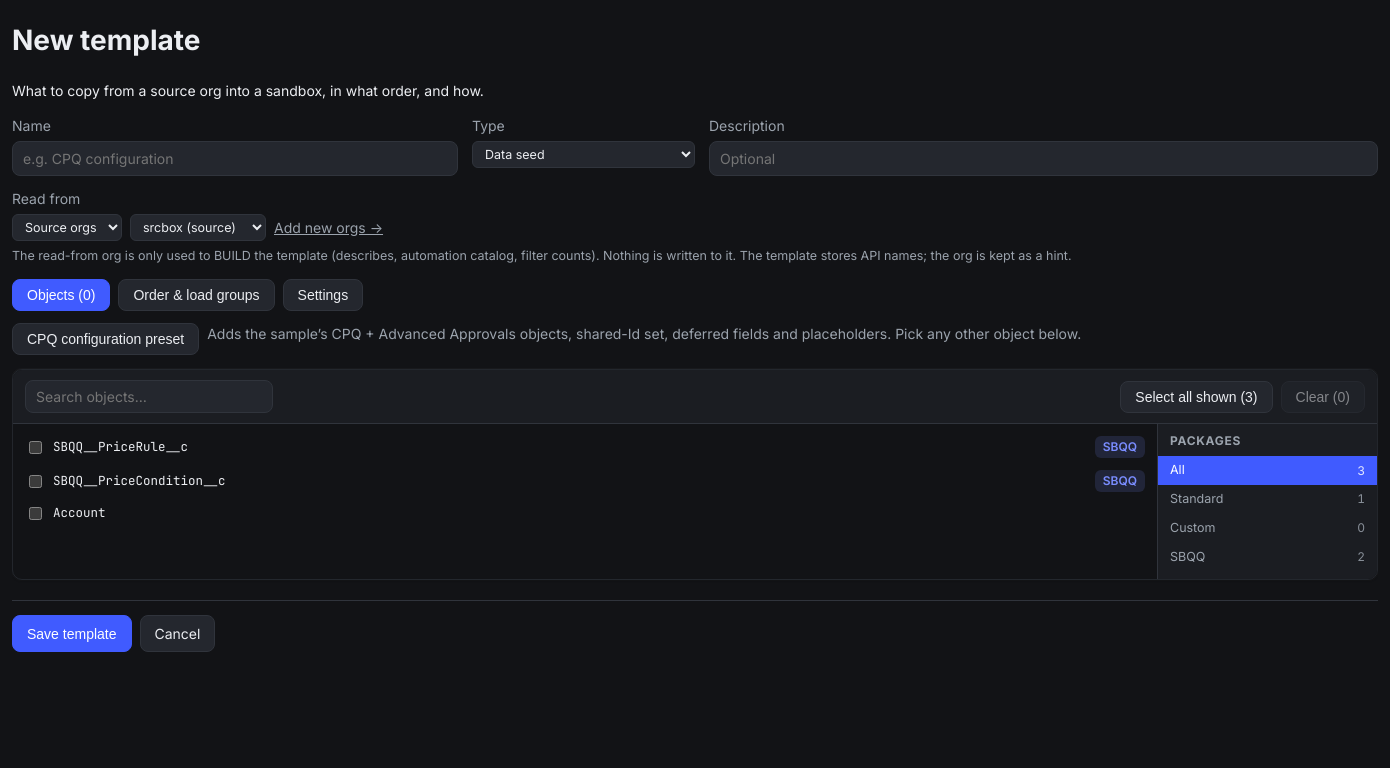
Test: TemplateBuilder — header + Read from › Save refuses an empty template and names the problems
Expected: the heading "New template" is shown, [12,23,200,57]
What coordinates should you click on to do the following:
click the button "Save template"
I would click on:
 (72, 634)
Its box is [12,615,132,652].
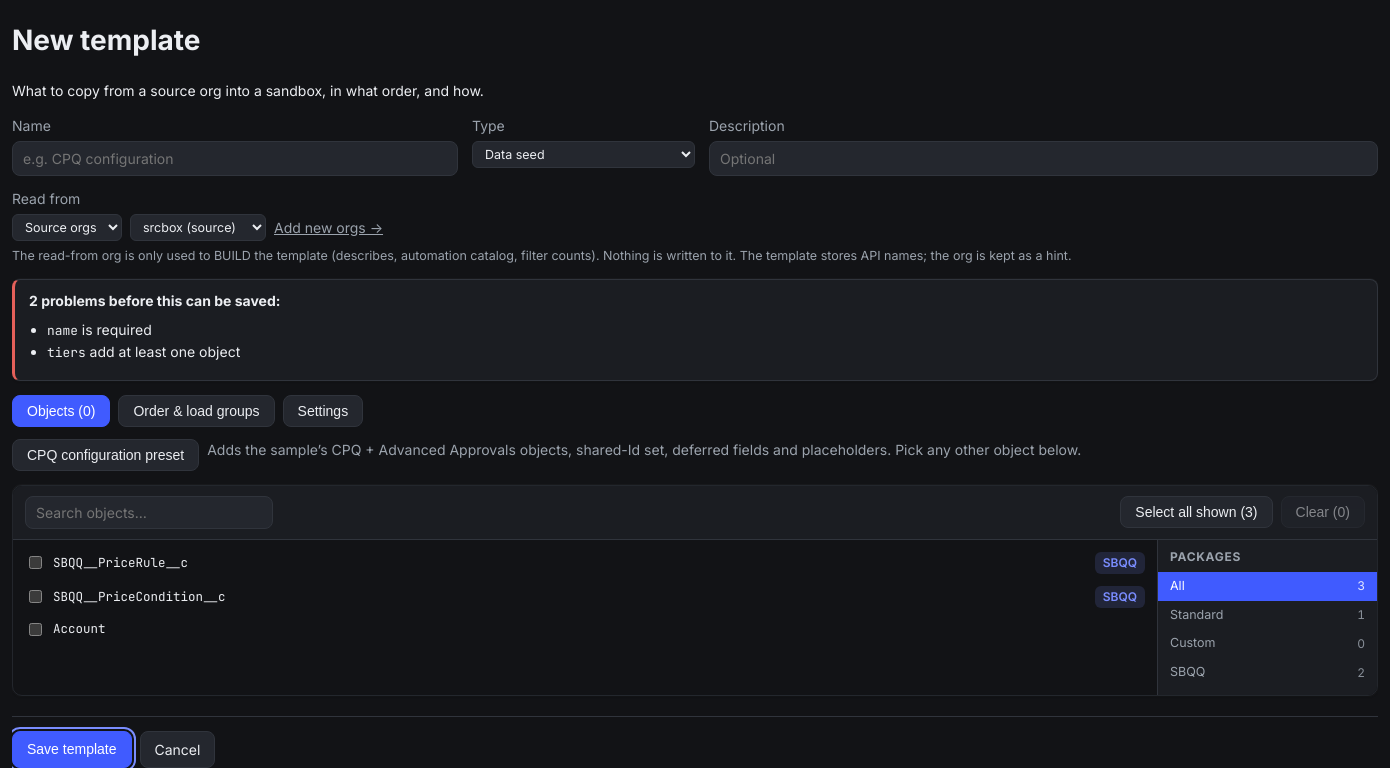
Expected: the message shows "2 problems", [12,279,1378,381]
Expected: the message shows "name is required", [12,279,1378,381]
Expected: the message shows "tiers add at least one object", [12,279,1378,381]
